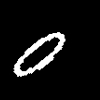chain: (14, 32, 64, 76)
